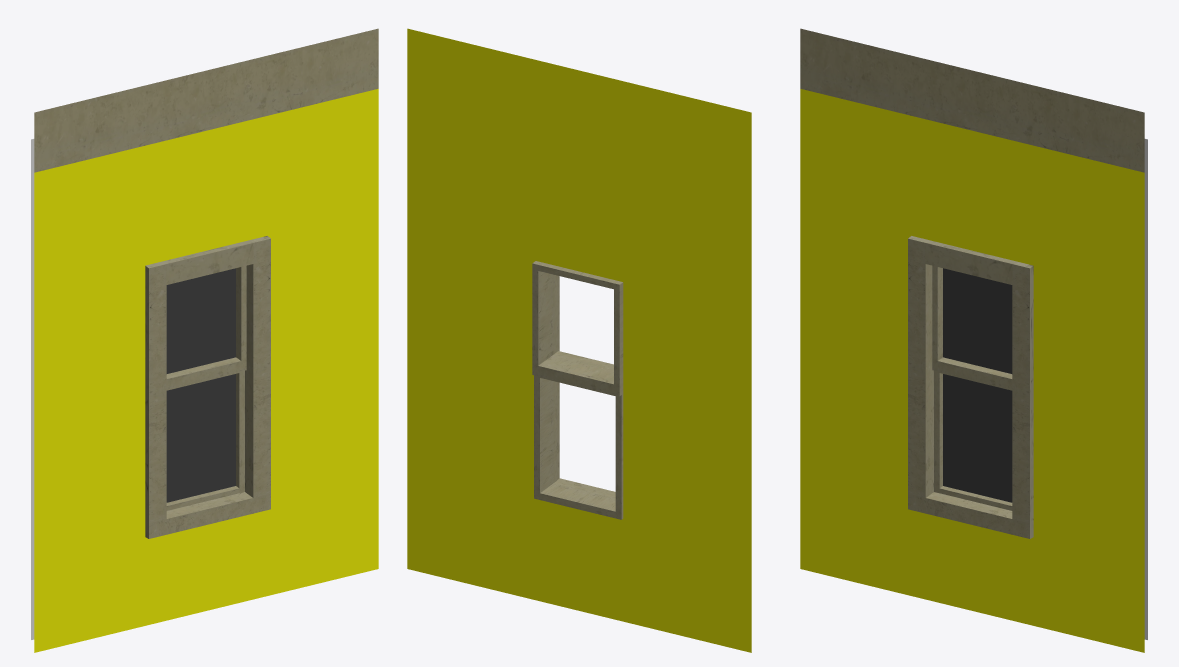
Rendered from brick-window-square-single.glb.
3 views of the same model, side by side, from view 1: azimuth 30°, elevation 25°; view 2: azimuth 150°, elevation 25°; view 3: azimuth 330°, elevation 25° (orthographic).
Visible parts, largest first — view 1: Brick_Window_Square_Single; view 2: Brick_Window_Square_Single; view 3: Brick_Window_Square_Single.
Part boxes in pixels (bbox=[...]): Brick_Window_Square_Single: bbox=[31, 28, 378, 652]; Brick_Window_Square_Single: bbox=[407, 28, 751, 652]; Brick_Window_Square_Single: bbox=[800, 28, 1147, 652].
Size of the model in its own units: 2 by 3 by 0.271.
Materials: 4 (1 with a texture image).
